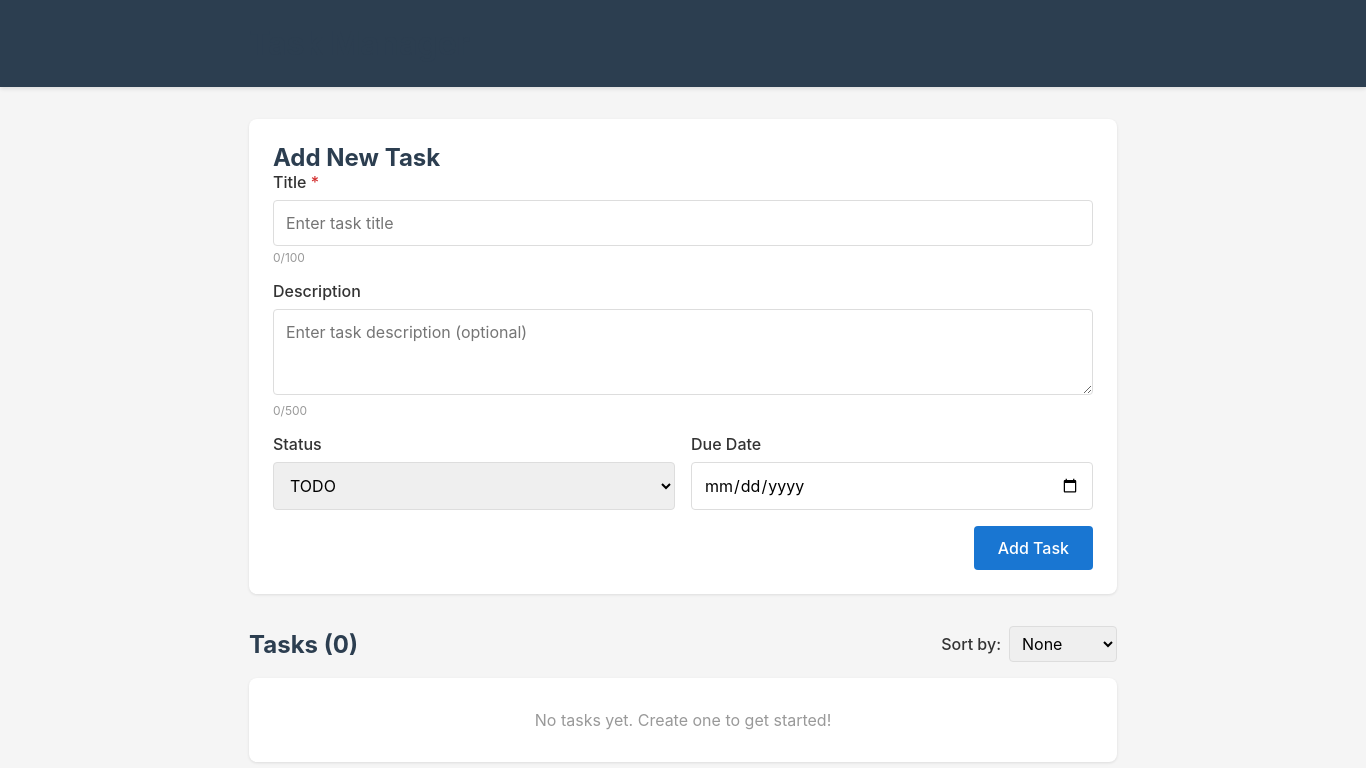
Test: App Component › Task Count Display › should update task count after adding a task
Check: the heading "Tasks (0)" is shown, box [249,630,358,658]
In the field labelled "Title *": (683, 223) [273,200,1093,246], type "New Task"
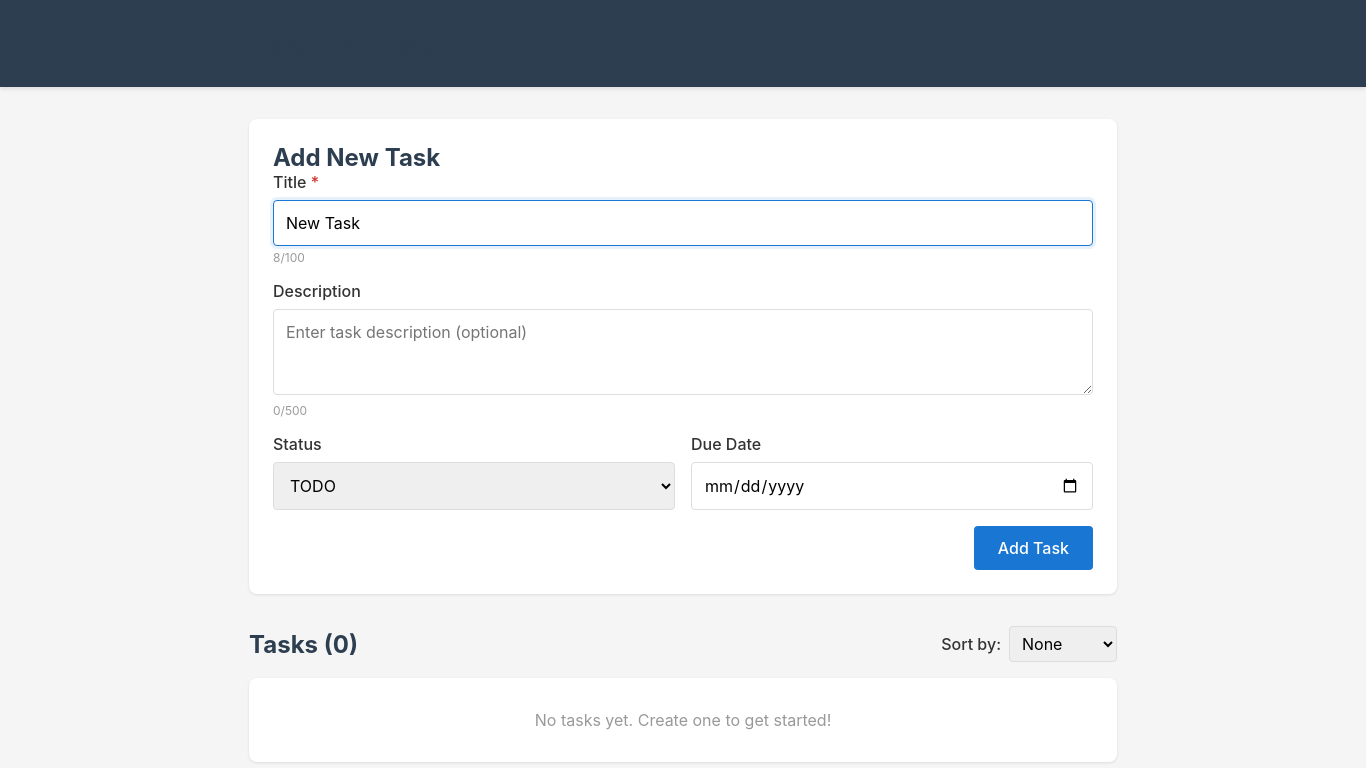
Click the button "Add Task": click(1033, 548) [974,526,1093,570]
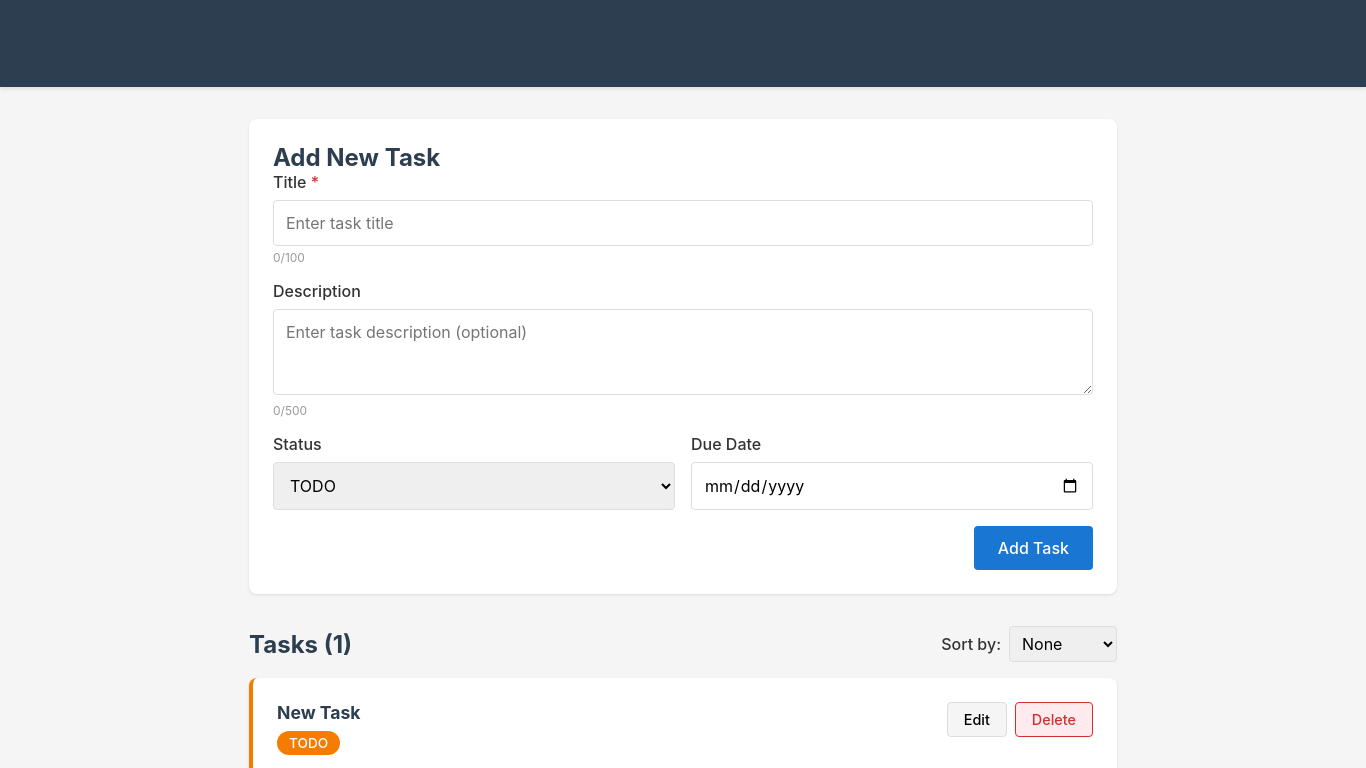
Check: the heading "Tasks (1)" is shown, box [249,630,352,658]
